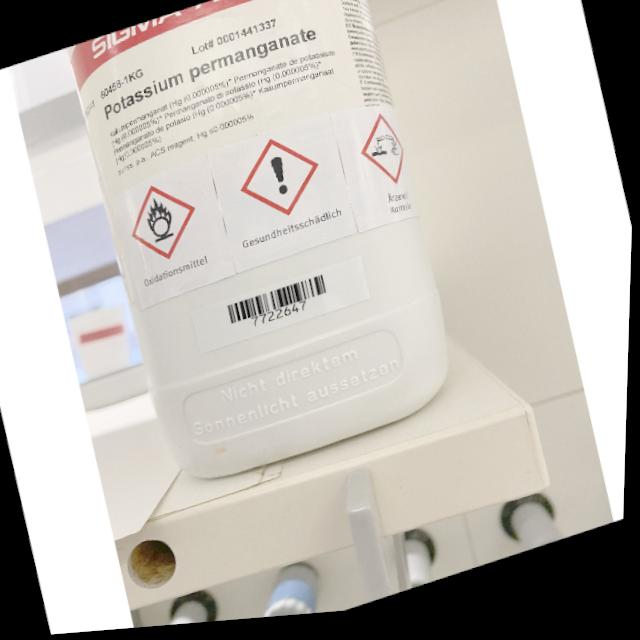corrosive: (367, 136, 403, 170)
health-ozone layer hazard: (266, 156, 295, 204)
oxidising: (141, 192, 182, 248)
